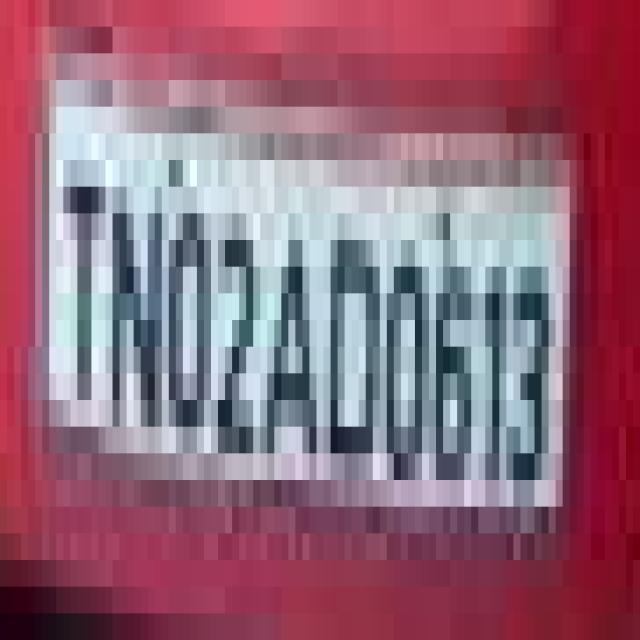license_plate: (14, 54, 591, 534)
